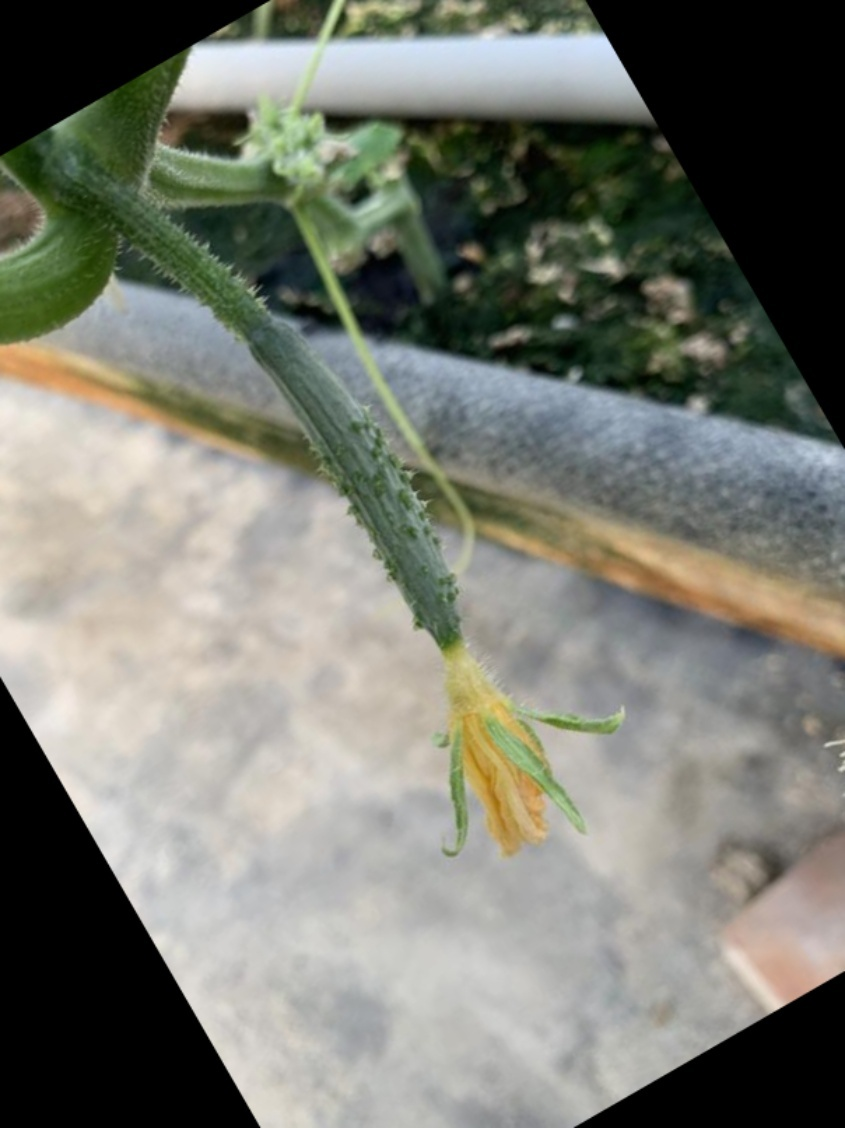bear: (230, 291, 621, 870)
